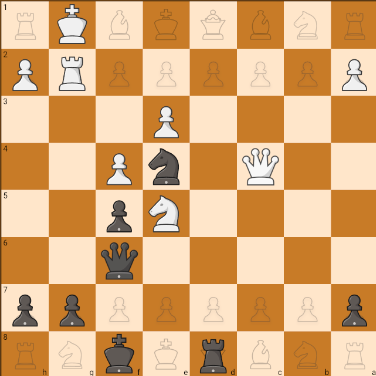bk: (97, 332, 142, 375), (99, 239, 139, 282)
bn: (146, 145, 185, 187)
bp: (332, 286, 376, 330), (51, 286, 91, 330), (3, 286, 43, 329), (101, 197, 139, 234)
br: (192, 335, 234, 376)
wk: (48, 0, 96, 47)
wn: (147, 192, 183, 236)
wp: (0, 49, 44, 96), (333, 56, 372, 94), (100, 149, 137, 189), (146, 104, 186, 140)
wq: (240, 144, 281, 188)
wr: (52, 52, 90, 95)
